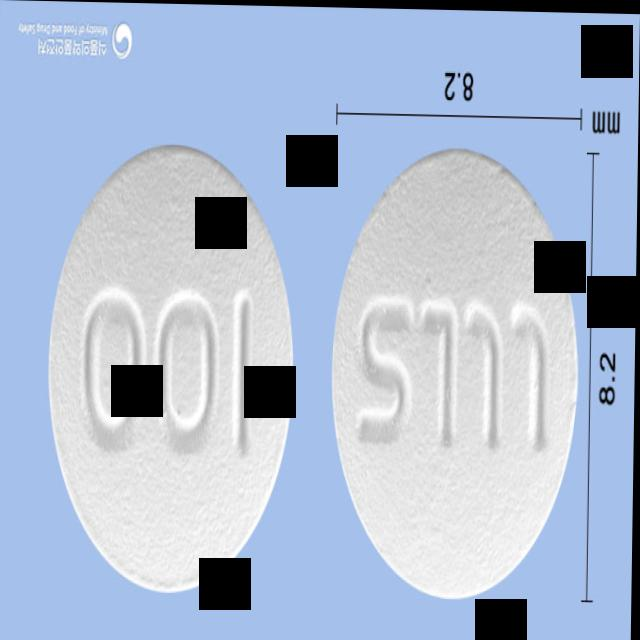Highloxin - 500mg: (328, 146, 584, 601), (44, 141, 297, 598)
